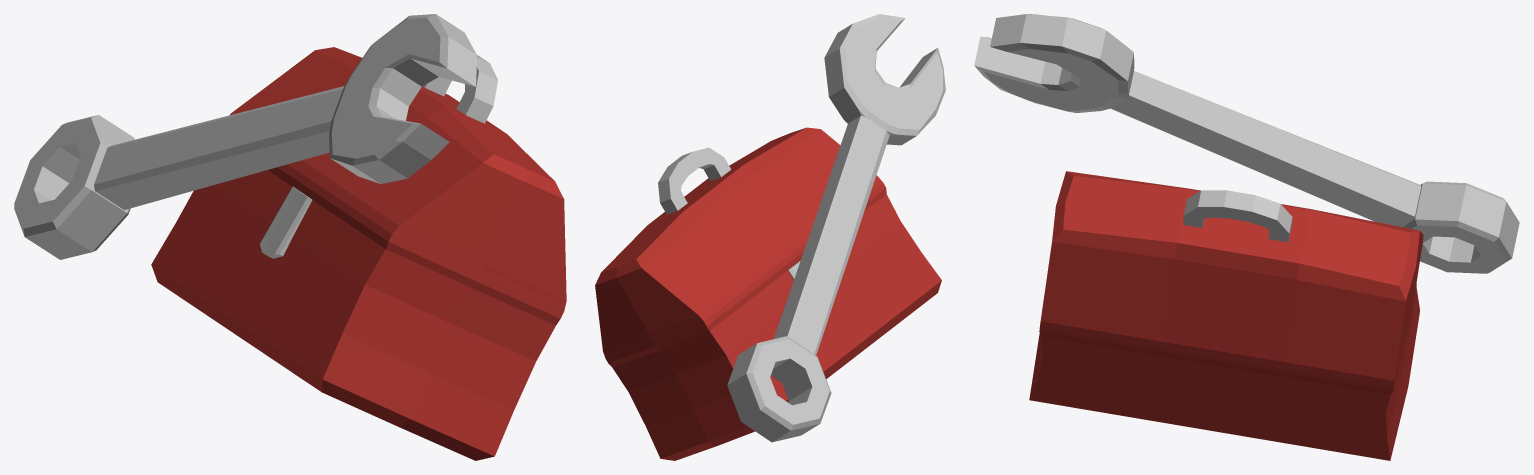
Rendered from repair3.fbx.
The picture shows the model from 3 angles, left to right: view 1: azimuth 30°, elevation 25°; view 2: azimuth 150°, elevation 25°; view 3: azimuth 270°, elevation 25°; orthographic projection. The views are drawn at different scales.
Visible parts, largest first — view 1: Cube.002, Cylinder; view 2: Cube.002, Cylinder; view 3: Cube.002, Cylinder.
Part boxes in pixels (x1,y1,x2,y2): Cube.002: (151,47,566,460); Cylinder: (14,14,476,259); Cube.002: (595,127,941,460); Cylinder: (727,14,945,442); Cube.002: (1029,171,1423,460); Cylinder: (974,14,1519,273).
Bounding box in the file's own units: 128 × 174 × 208.
